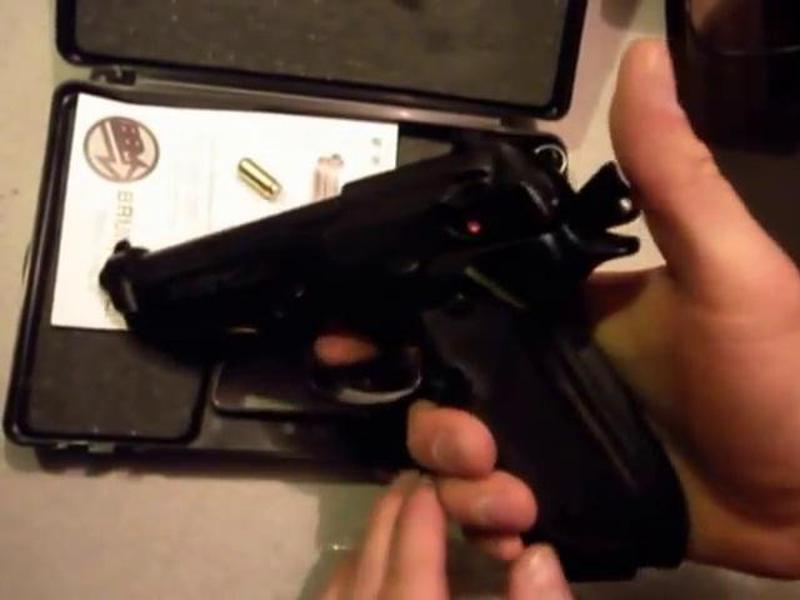Pistola: (91, 130, 707, 559)
